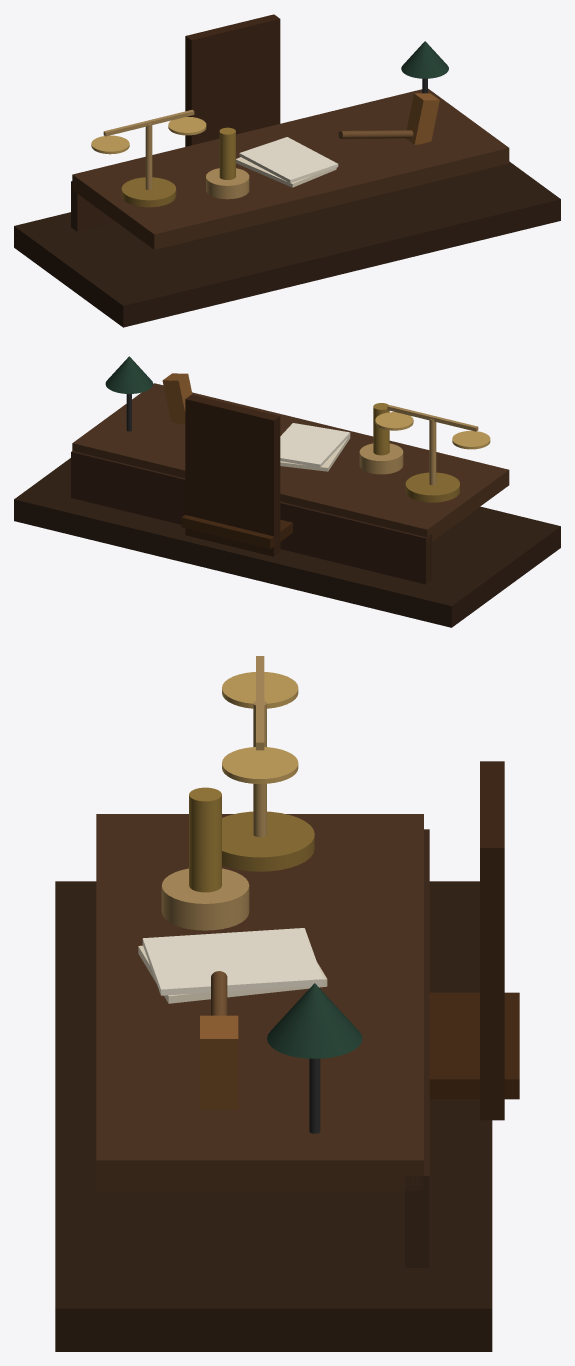
The model's file is sala-tribunal.glb.
3 renders of one model, top to bottom at view 1: azimuth 30°, elevation 25°; view 2: azimuth 150°, elevation 25°; view 3: azimuth 270°, elevation 25°, orthographic. The views are drawn at different scales.
Parts seen in each view (by area): view 1: estrado, mesa_juez, silla_respaldo, expediente_2, balanza_base, martillo_cabeza, lampara_pantalla, sello_base, frente_mesa, sello_mango, martillo_mango, platillo_izq (+4 smaller); view 2: estrado, mesa_juez, frente_mesa, silla_respaldo, expediente_2, silla_asiento, balanza_base, lampara_pantalla, martillo_cabeza, sello_base, sello_mango, platillo_izq (+4 smaller); view 3: mesa_juez, estrado, expediente_2, silla_respaldo, silla_asiento, balanza_base, lampara_pantalla, frente_mesa, sello_base, martillo_cabeza, sello_mango, platillo_der (+5 smaller).
Part boxes in pixels (<box>): estrado: <box>14,161,560,327</box>; mesa_juez: <box>72,88,509,249</box>; silla_respaldo: <box>185,14,280,146</box>; expediente_2: <box>239,137,338,182</box>; balanza_base: <box>121,177,176,207</box>; martillo_cabeza: <box>406,93,439,144</box>; lampara_pantalla: <box>401,41,448,78</box>; sello_base: <box>206,168,249,199</box>; frente_mesa: <box>71,181,115,231</box>; sello_mango: <box>219,127,235,179</box>; martillo_mango: <box>338,130,413,138</box>; platillo_izq: <box>91,135,129,154</box>; estrado: <box>14,458,560,627</box>; mesa_juez: <box>72,383,509,543</box>; frente_mesa: <box>71,451,432,584</box>; silla_respaldo: <box>185,394,280,556</box>; expediente_2: <box>280,423,350,467</box>; silla_asiento: <box>181,515,292,548</box>; balanza_base: <box>405,472,459,502</box>; lampara_pantalla: <box>105,356,153,393</box>; martillo_cabeza: <box>162,373,192,424</box>; sello_base: <box>359,443,403,474</box>; sello_mango: <box>373,403,389,455</box>; platillo_izq: <box>452,431,490,449</box>; mesa_juez: <box>96,814,423,1191</box>; estrado: <box>55,881,492,1351</box>; expediente_2: <box>142,928,322,995</box>; silla_respaldo: <box>480,761,504,1120</box>; silla_asiento: <box>429,992,519,1099</box>; balanza_base: <box>222,811,314,871</box>; lampara_pantalla: <box>267,983,362,1058</box>; frente_mesa: <box>405,829,429,1267</box>; sello_base: <box>161,868,249,930</box>; martillo_cabeza: <box>200,1015,238,1109</box>; sello_mango: <box>189,787,221,892</box>; platillo_der: <box>222,747,298,783</box>.
Size of what is drawn, in the model's own units: 7.4 by 2.7 by 3.4.
